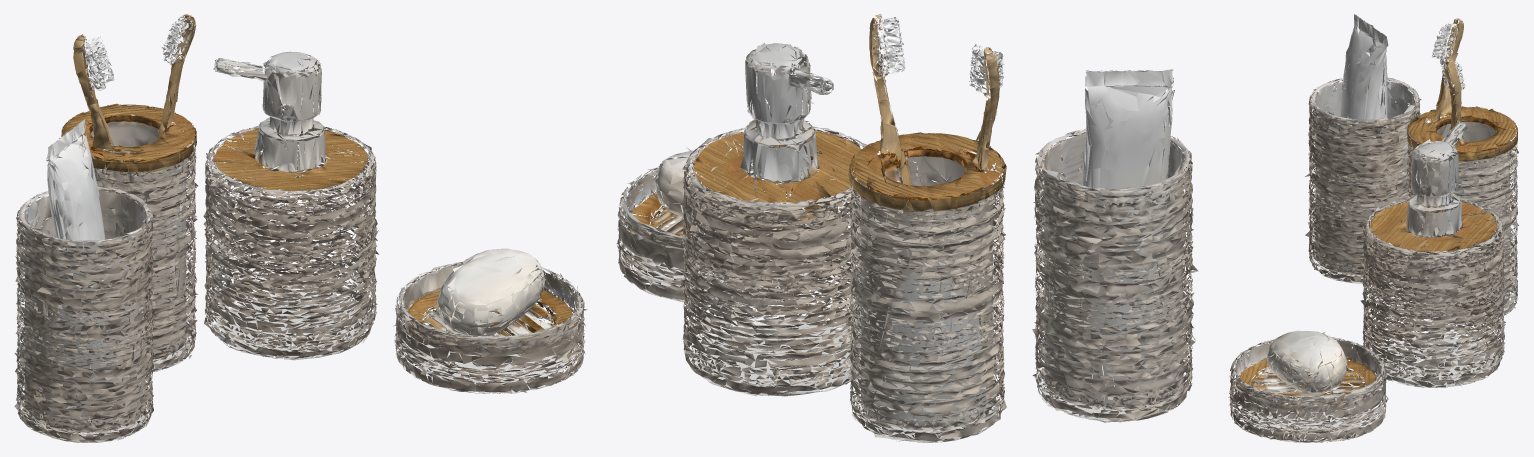
The model's file is mk2-accessories-set.glb.
3 renders of one model, left to right at view 1: azimuth 30°, elevation 25°; view 2: azimuth 150°, elevation 25°; view 3: azimuth 270°, elevation 25°, orthographic. The views are drawn at different scales.
Parts seen in each view (by area): view 1: mesh_node; view 2: mesh_node; view 3: mesh_node.
Part boxes in pixels (x1,y1,x2,y2): mesh_node: (14, 14, 587, 442); mesh_node: (616, 14, 1198, 442); mesh_node: (1228, 14, 1518, 442).
Bounding box in the file's own units: 1.93 × 1.19 × 1.16.
1 material, 1 textured.
